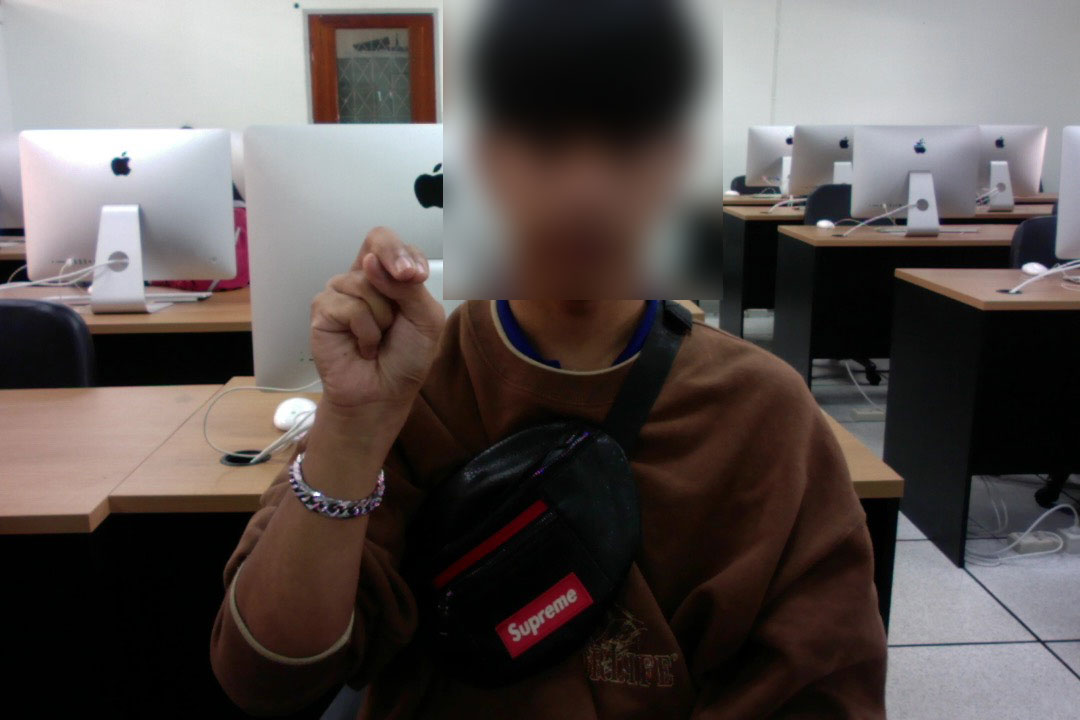tor: (304, 219, 447, 430)
